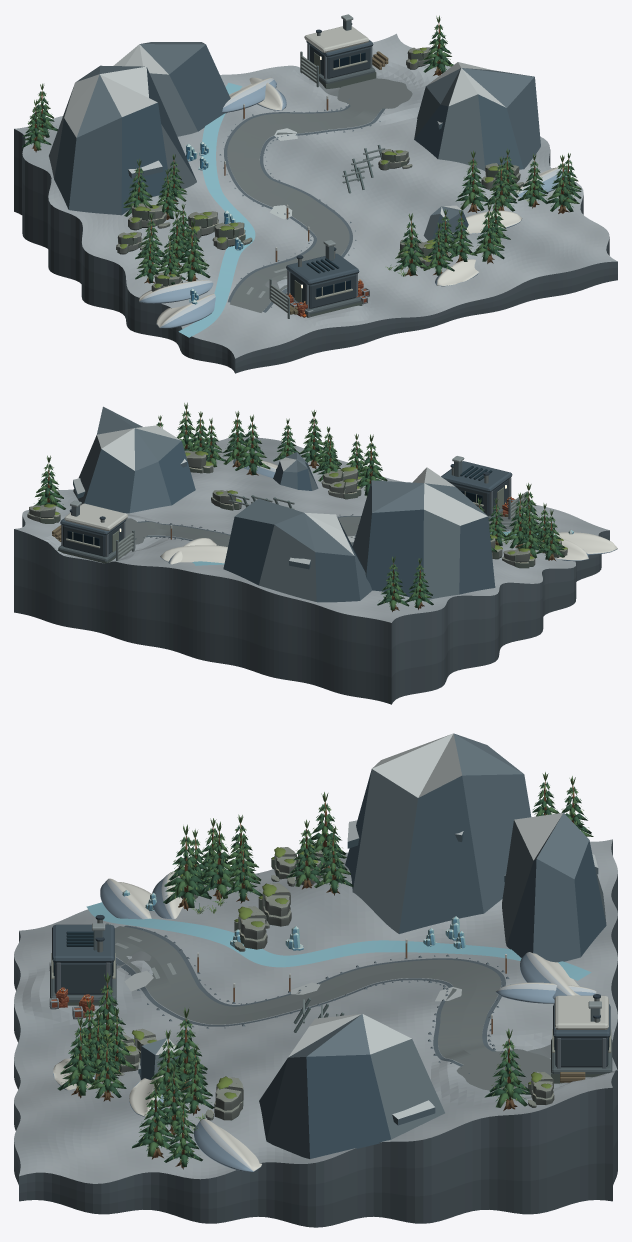
Rendered from hibern.glb.
3 renders of one model, top to bottom at view 1: azimuth 30°, elevation 25°; view 2: azimuth 150°, elevation 25°; view 3: azimuth 270°, elevation 25°, orthographic. The views are drawn at different scales.
Visible parts, largest first — view 1: Static terrain and architecture • material batches; view 2: Static terrain and architecture • material batches; view 3: Static terrain and architecture • material batches.
Boxes of the visible parts, box(x1,y1,x2,y2) form: Static terrain and architecture • material batches: box(14, 14, 617, 373); Static terrain and architecture • material batches: box(14, 402, 617, 704); Static terrain and architecture • material batches: box(14, 733, 617, 1227).
Bounding box in the file's own units: 23.86 × 8.57 × 20.
